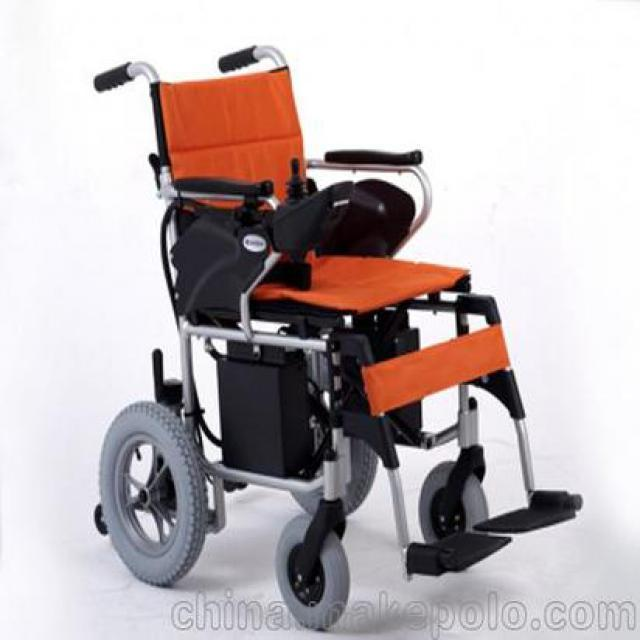wheelchairs: (86, 46, 584, 634)
